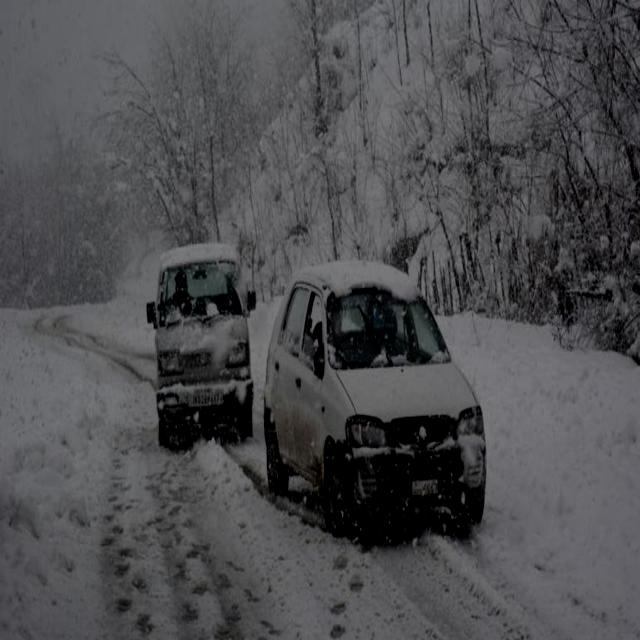Car: (272, 278, 476, 546)
Van: (159, 249, 244, 458)
